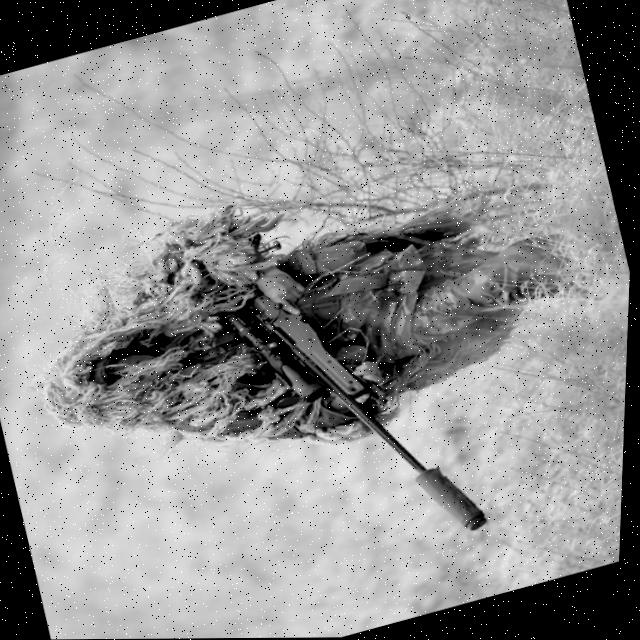firearm: (216, 247, 500, 581)
